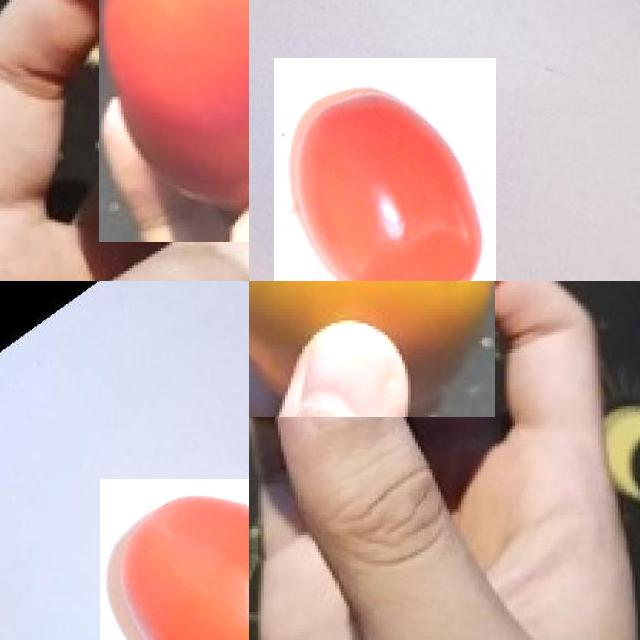0: (99, 0, 249, 242)
Fresh Tomato: (274, 58, 496, 281), (99, 479, 249, 640)
Rotten Tomato: (249, 281, 495, 417)
